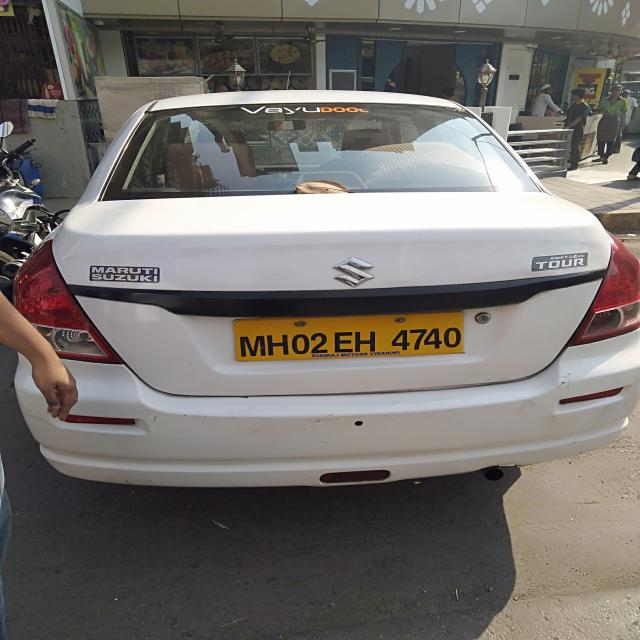Number-Plate: (234, 313, 471, 359)
